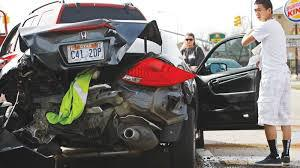bonnet-dent: (24, 22, 136, 83)
rear-bumper-dent: (22, 94, 124, 144)
